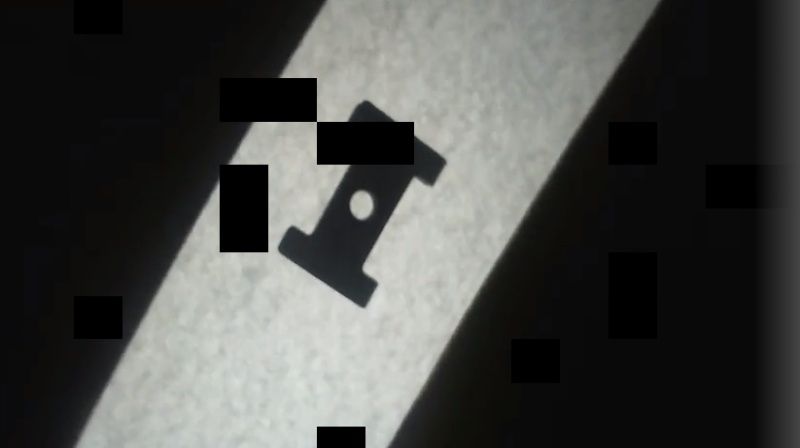O002: (272, 97, 450, 311)
